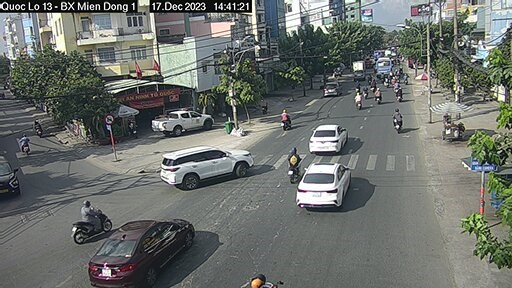car: (96, 220, 188, 279), (162, 148, 255, 189), (303, 159, 353, 211), (152, 111, 216, 137), (308, 119, 347, 154), (326, 82, 342, 97), (353, 68, 367, 79)
motorbike: (72, 201, 108, 241), (389, 105, 405, 136), (287, 152, 300, 184), (280, 106, 293, 133), (351, 89, 364, 111)
